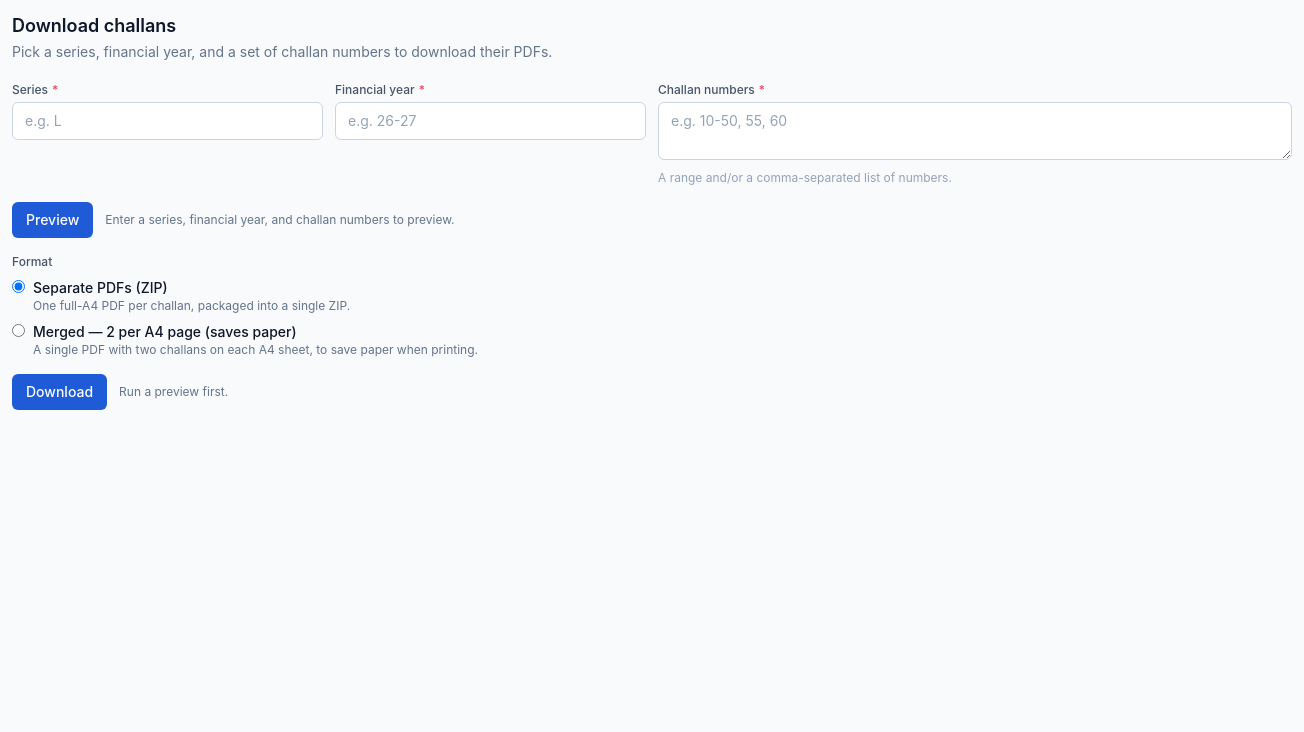
Test case: DownloadChallans › renders the resolved count and an amber skipped-void note
The image size is (1304, 732).
Type "L" into the field with placeholder "e.g. L" at (168, 121), box [12,102,323,140]
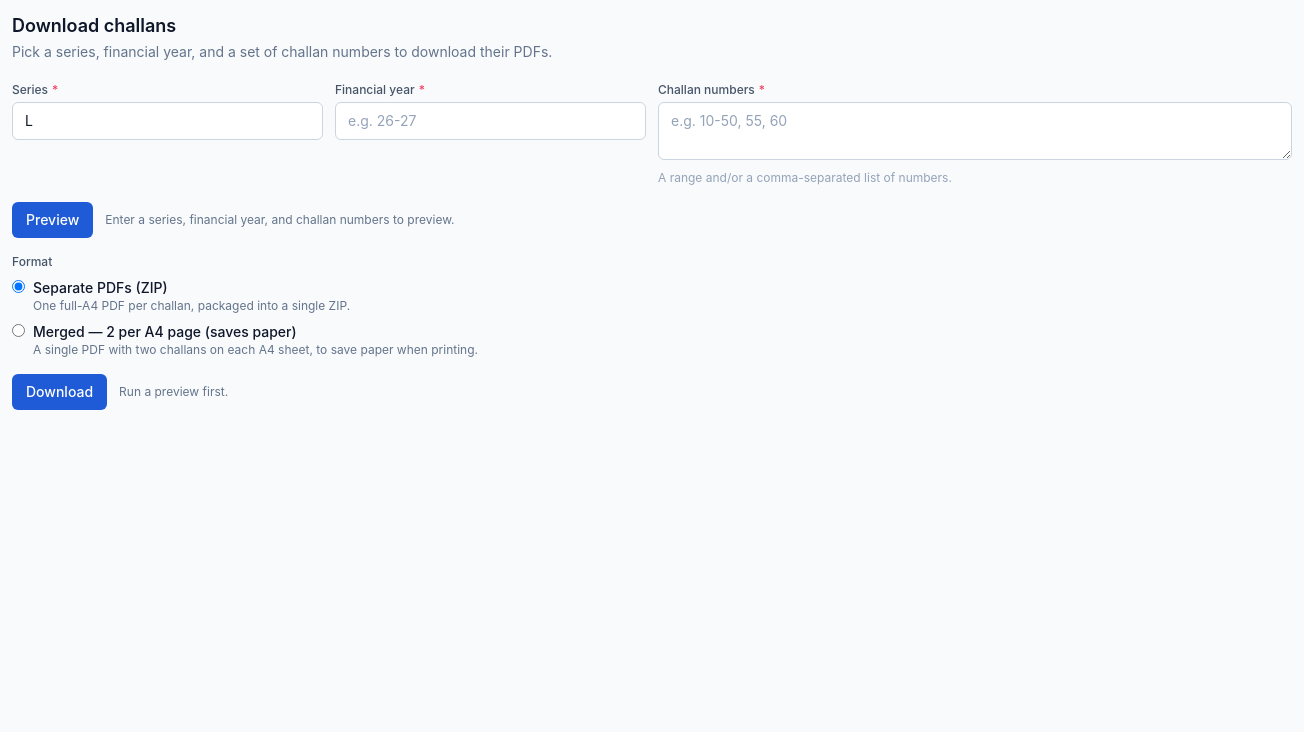
Type "26-27" into the field with placeholder "e.g. 26-27" at (490, 121), box [335,102,646,140]
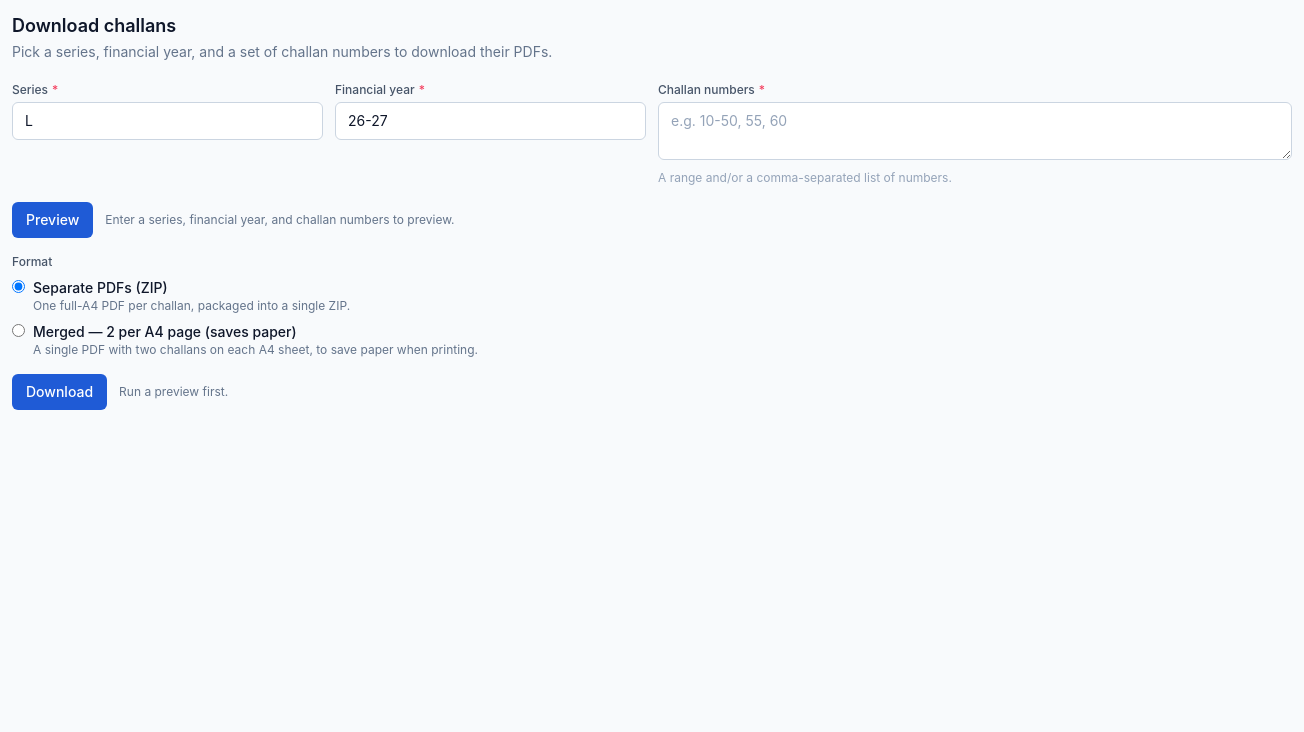
Type "10-50, 55, 60" into the text box with placeholder "e.g. 10-50, 55, 60" at (975, 131), box [658,102,1292,160]
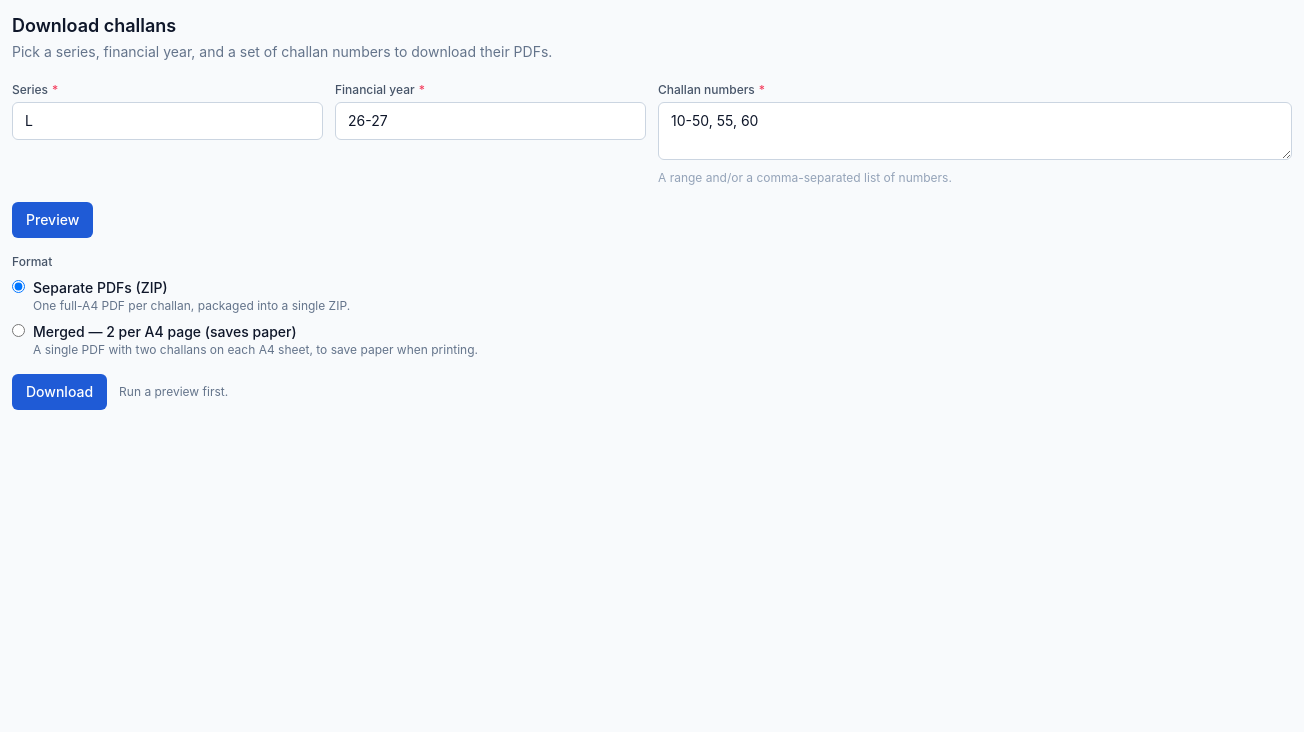
Click the button "Preview" at (53, 220), box [12,202,93,238]
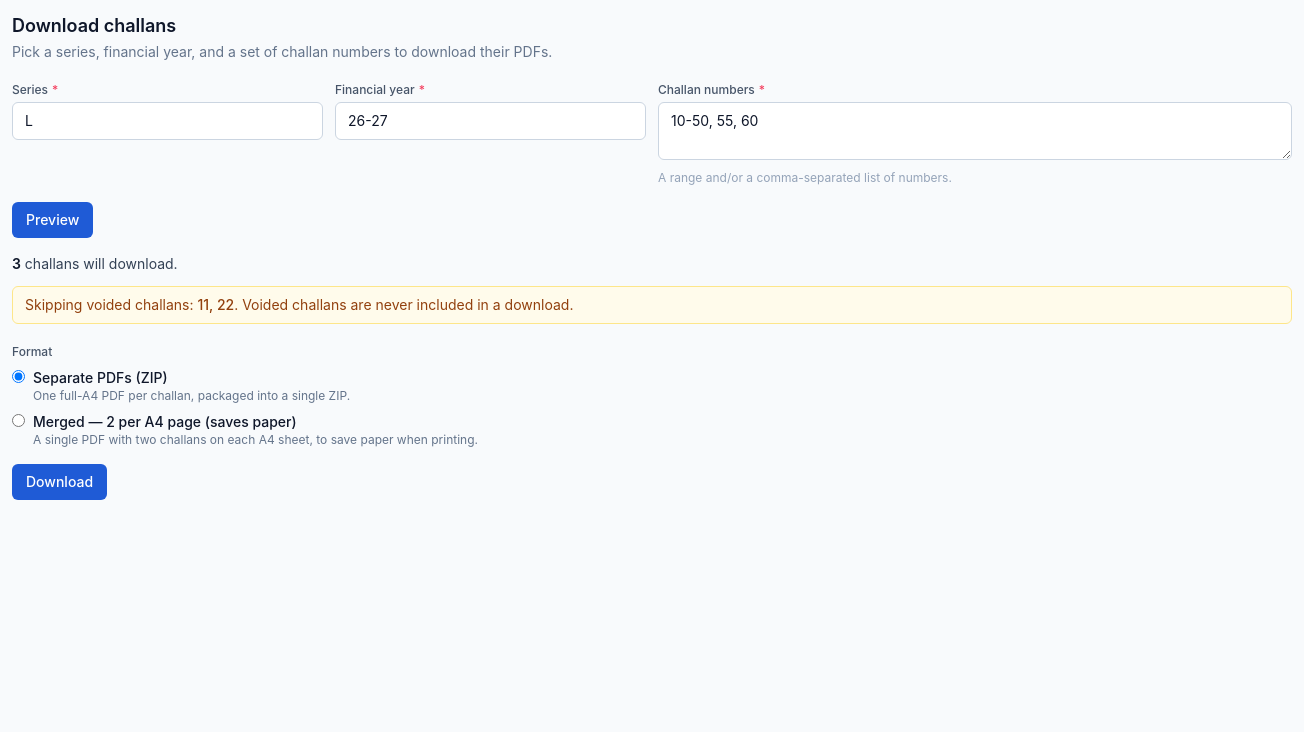
Check: the text "3" is shown, box [12,255,21,272]
Check: the text "3 challans will download." is shown, box [12,255,178,272]
Check: the text "Skipping voided" is shown, box [25,296,182,313]
